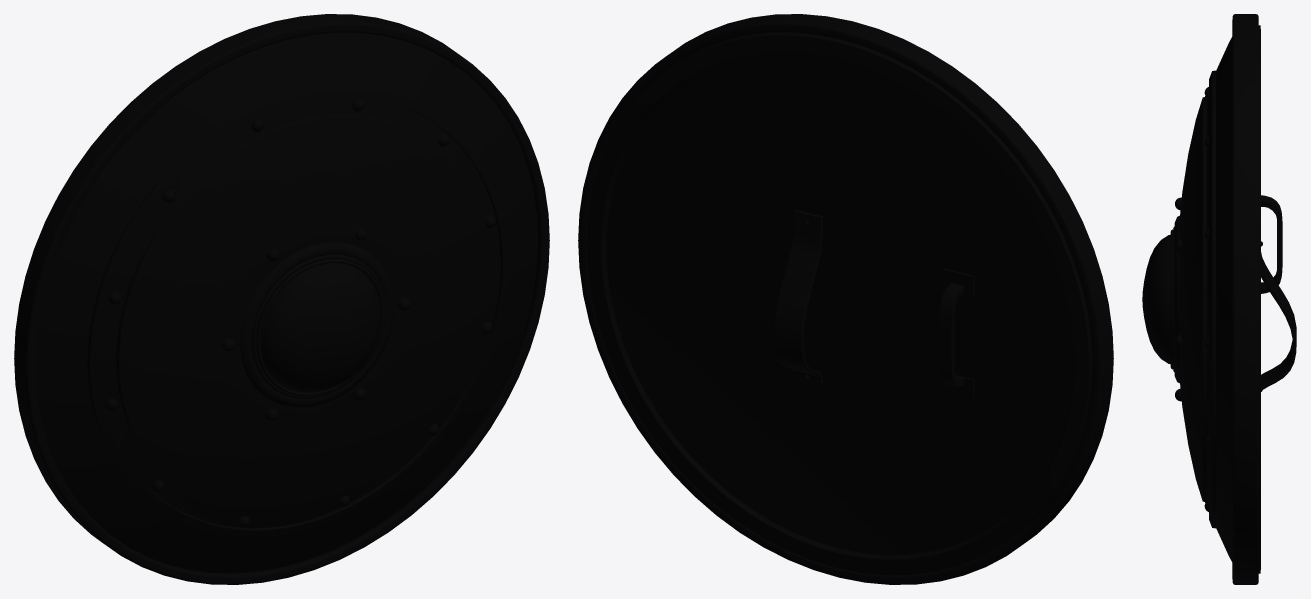
File: knights_shield.glb
3 views of the same model, side by side, from view 1: azimuth 30°, elevation 25°; view 2: azimuth 150°, elevation 25°; view 3: azimuth 270°, elevation 25° (orthographic). The views are drawn at different scales.
Parts seen in each view (by area): view 1: knight_shield.1_1; view 2: knight_shield.1_1; view 3: knight_shield.1_1.
Part boxes in pixels (x1,y1,x2,y2): knight_shield.1_1: (14, 14, 549, 584); knight_shield.1_1: (578, 14, 1113, 584); knight_shield.1_1: (1142, 14, 1296, 584).
Bounding box in the file's own units: 4.37 × 4.37 × 1.18.
1 material, 1 textured.
